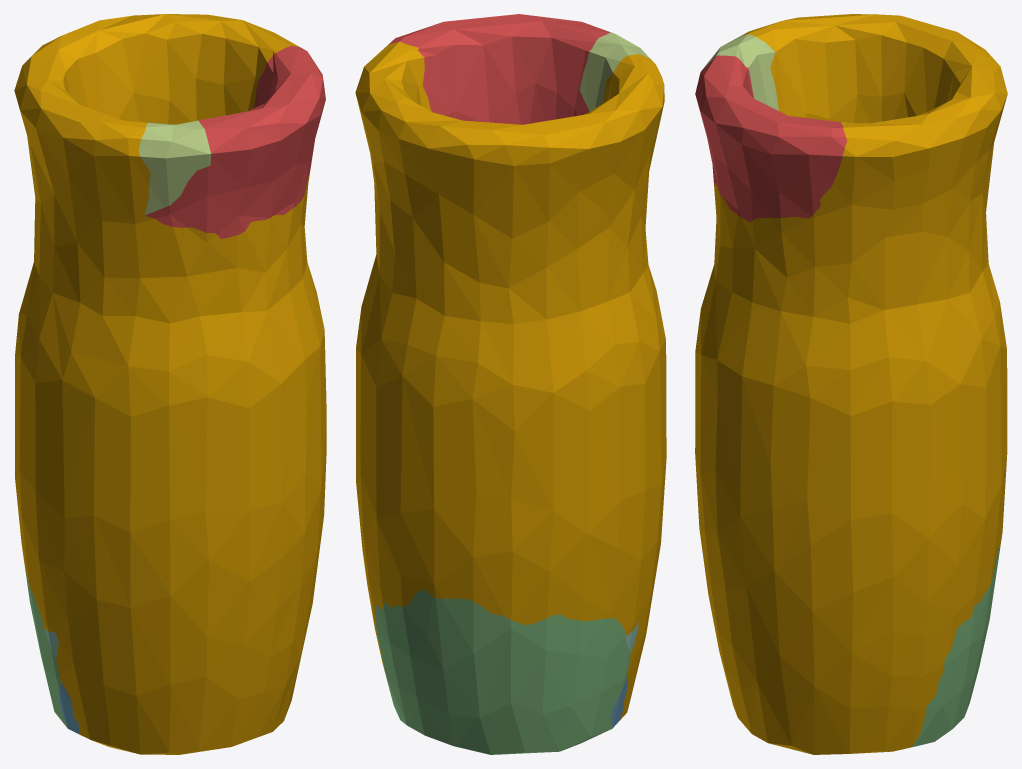
Rendered from fractured_9_8pcs.glb.
The picture shows the model from 3 angles, left to right: view 1: azimuth 30°, elevation 25°; view 2: azimuth 150°, elevation 25°; view 3: azimuth 270°, elevation 25°; orthographic projection.
Visible parts, largest first — view 1: piece_0.obj, piece_2.obj, piece_53.obj, piece_3.obj; view 2: piece_0.obj, piece_3.obj, piece_2.obj, piece_53.obj; view 3: piece_0.obj, piece_2.obj, piece_3.obj, piece_53.obj.
Boxes of the visible parts, x1,y1,x2,y2 form: piece_0.obj: (14,14,326,754); piece_2.obj: (145,46,325,238); piece_53.obj: (138,120,210,215); piece_3.obj: (25,568,67,728); piece_0.obj: (355,41,666,719); piece_3.obj: (375,590,630,754); piece_2.obj: (388,14,610,124); piece_53.obj: (579,32,650,111); piece_0.obj: (695,14,1007,754); piece_2.obj: (695,55,847,221); piece_3.obj: (911,545,1000,747); piece_53.obj: (701,34,778,110).
Bounding box in the file's own units: 0.4439 × 1 × 0.444.
